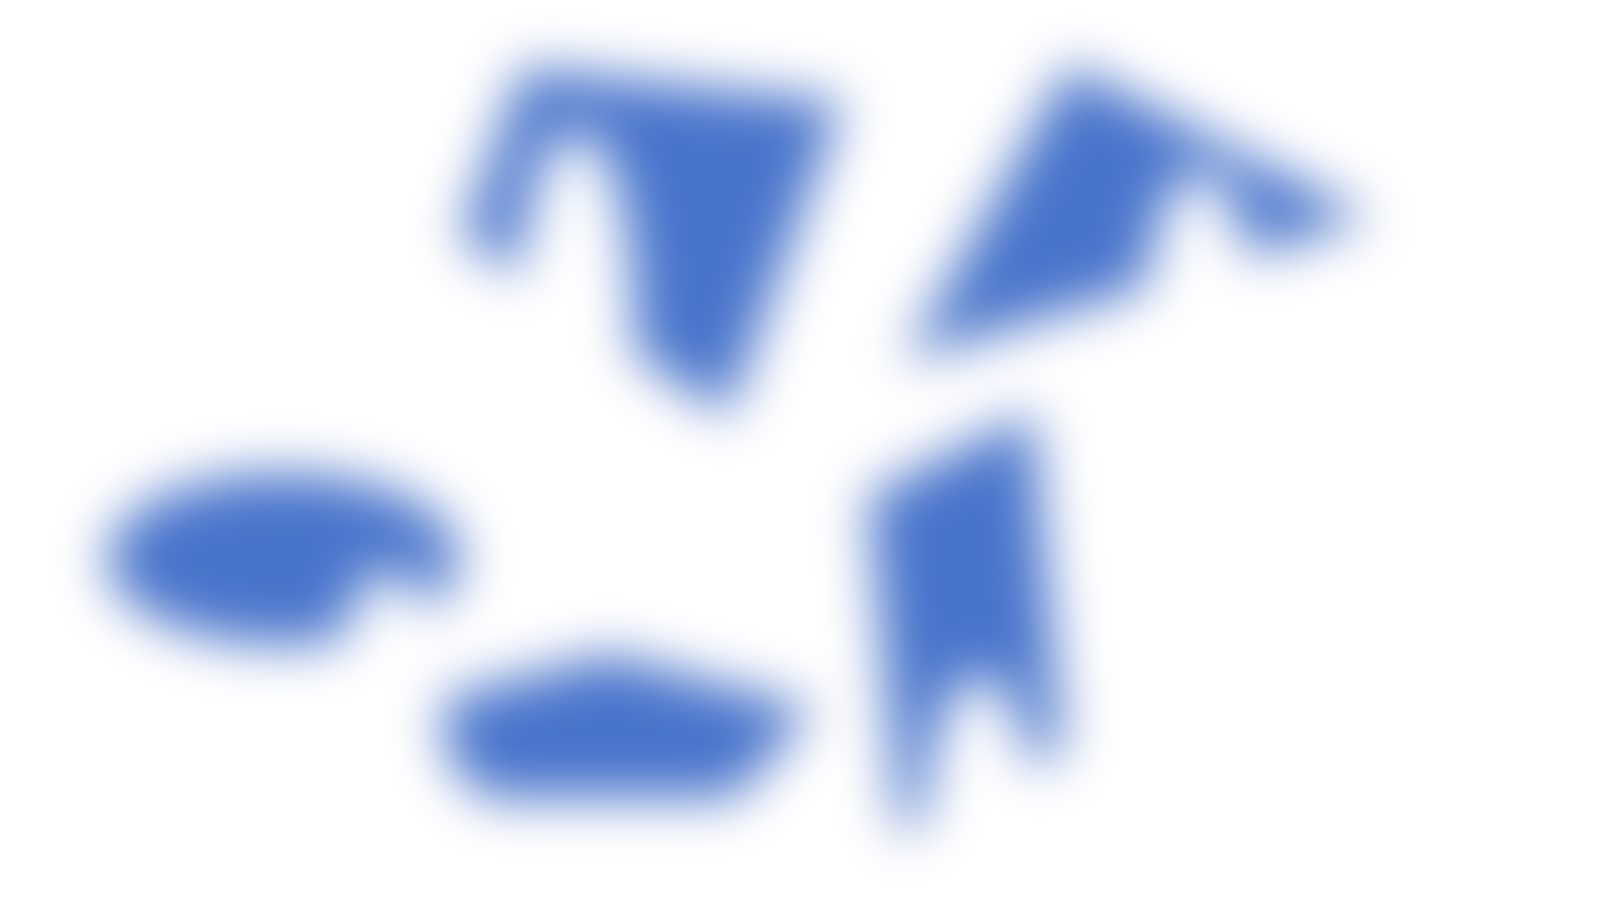circle: (70, 432, 483, 678)
parallelogram: (852, 402, 1103, 864)
pentagon: (427, 618, 815, 838)
trapezium: (440, 43, 842, 427)
triangle: (898, 44, 1365, 371)
